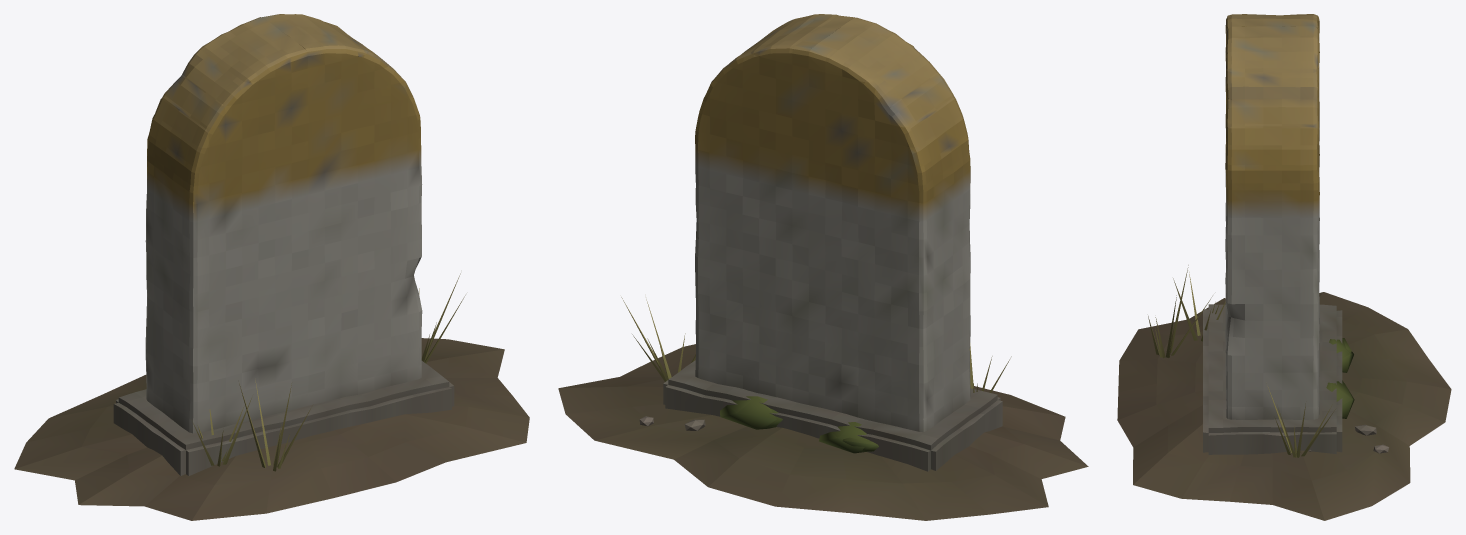
File: milestone_v2.glb
3 views of the same model, side by side, from view 1: azimuth 30°, elevation 25°; view 2: azimuth 150°, elevation 25°; view 3: azimuth 270°, elevation 25° (orthographic). The views are drawn at different scales.
Visible parts, largest first — view 1: hb_main; view 2: hb_main; view 3: hb_main.
Boxes of the visible parts, x1=… form: hb_main: x1=14, y1=14, x2=529, y2=520; hb_main: x1=558, y1=14, x2=1088, y2=520; hb_main: x1=1117, y1=14, x2=1451, y2=520.
Size of the model in its own units: 1.17 by 0.9825 by 0.7206.
